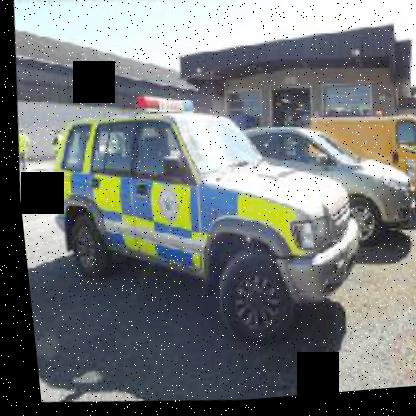emergency: (25, 73, 379, 368)
not_emergency: (217, 101, 415, 270), (290, 97, 415, 228)
